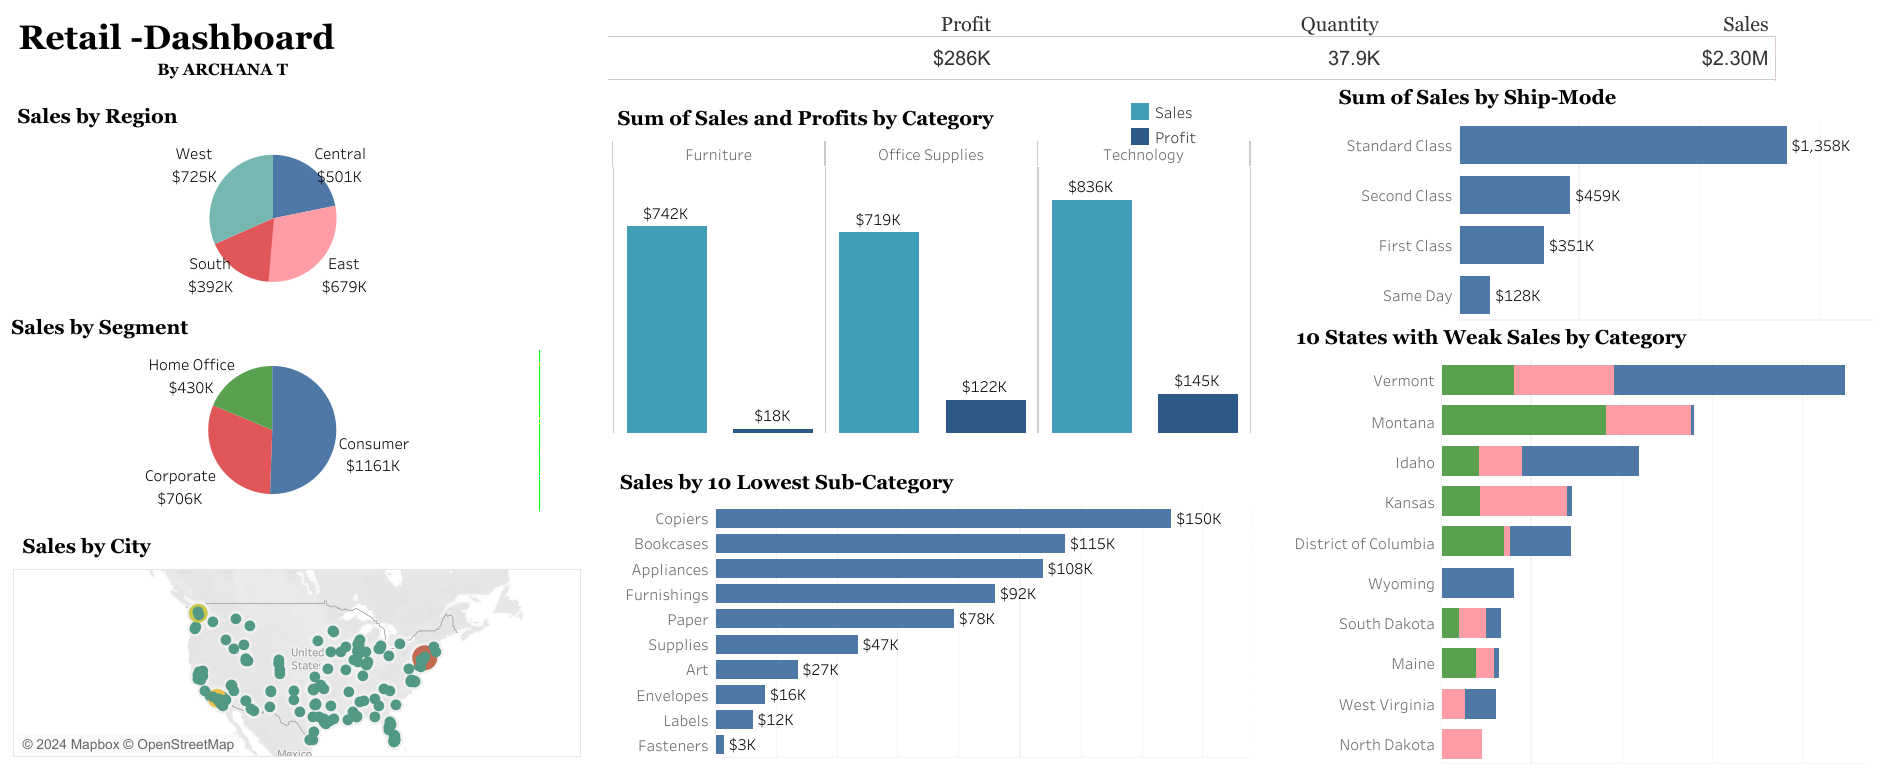

The dashboard page shown, as its layout file describes it:
{"tool":"tableau","page":{"name":"Dashboard 1","canvas":[1000,1000],"units":"permille","ordinal":0},"visuals":[{"type":"worksheet","title":"Sheet 9","mark":"Automatic","box":[3,12.2,317.9,118.5]},{"type":"worksheet","title":"Sheet 6","mark":"Automatic","box":[322.8,13.9,620.9,92.3]},{"type":"worksheet","title":"Sheet 5","mark":"Automatic","rows":["Ship Mode"],"cols":["Sales"],"box":[708.8,101,286.3,315.3]},{"type":"worksheet","title":"Sheet 1","mark":"Pie","box":[6.9,125.4,276.5,261.3]},{"type":"worksheet","title":"Sheet 4","mark":"Automatic","cols":["Category"],"box":[325.8,128.9,339.6,437.3]},{"type":"legend","title":"Sheet 4","param":"[federated.184h1un0h95a5q171w2zm0y72of5].[:Measure Names]","box":[599.4,128.9,81.5,66.2]},{"type":"worksheet","title":"Sheet 3","mark":"Pie","box":[3.1,400.7,283.3,263.1]},{"type":"worksheet","title":"Sheet 10","mark":"Automatic","rows":["State"],"cols":["Sales"],"box":[686.1,412.9,305,580.1]},{"type":"worksheet","title":"Sheet 2","mark":"Automatic","rows":["Sub-Category"],"cols":["Sales"],"box":[326.8,601.1,338.6,385]},{"type":"worksheet","title":"Sheet 8","mark":"Automatic","box":[6.9,684.7,302.4,301.4]}]}

Visuals, with their boxes on the dashboard's canvas, which has no fixed pixel size, in thousandths of its width and height (x1, y1, x2, y2). These are canvas units, not pixel positions in the 1880x768 screenshot, which may show the page scaled, cropped or inside an application window:
"Sheet 9" worksheet: crop(3, 12, 321, 131)
"Sheet 6" worksheet: crop(323, 14, 944, 106)
"Sheet 5" worksheet: crop(709, 101, 995, 416)
"Sheet 1" worksheet (Pie marks): crop(7, 125, 283, 387)
"Sheet 4" worksheet: crop(326, 129, 665, 566)
"Sheet 4" legend: crop(599, 129, 681, 195)
"Sheet 3" worksheet (Pie marks): crop(3, 401, 286, 664)
"Sheet 10" worksheet: crop(686, 413, 991, 993)
"Sheet 2" worksheet: crop(327, 601, 665, 986)
"Sheet 8" worksheet: crop(7, 685, 309, 986)
